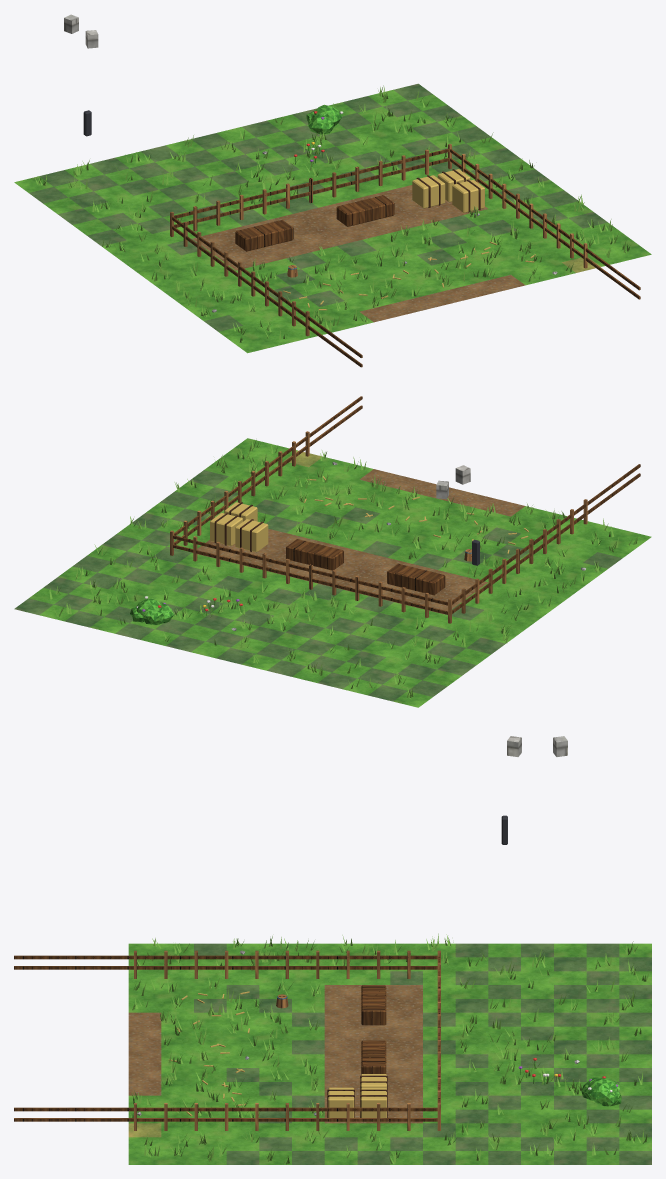
The model's file is chunk_7_3.glb.
The picture shows the model from 3 angles, top to bottom: view 1: azimuth 30°, elevation 25°; view 2: azimuth 150°, elevation 25°; view 3: azimuth 270°, elevation 25°; orthographic projection. The views are drawn at different scales.
Visible parts, largest first — view 1: chunk_7_3; view 2: chunk_7_3; view 3: chunk_7_3.
Boxes of the visible parts, x1,y1,x2,y2 form: chunk_7_3: (14,14,651,367); chunk_7_3: (14,396,651,707); chunk_7_3: (14,736,651,1164).
Bounding box in the file's own units: 16.1 × 7.28 × 19.5.
Materials: 19 (12 with a texture image).
